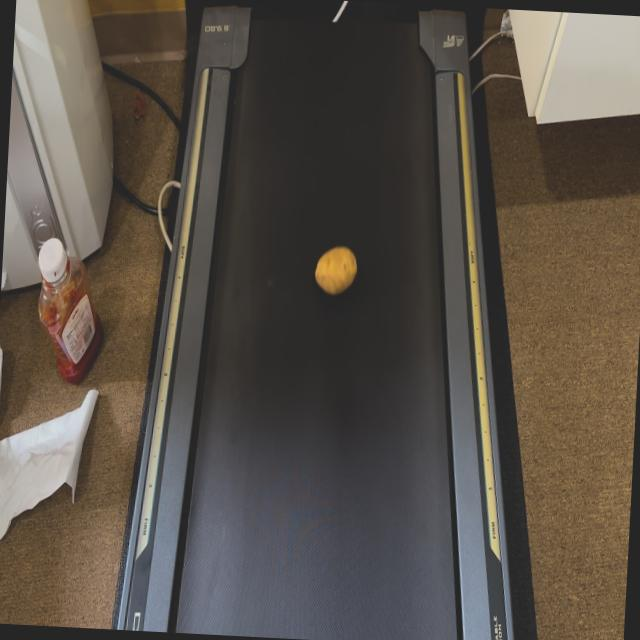Trash: (313, 248, 359, 297)
